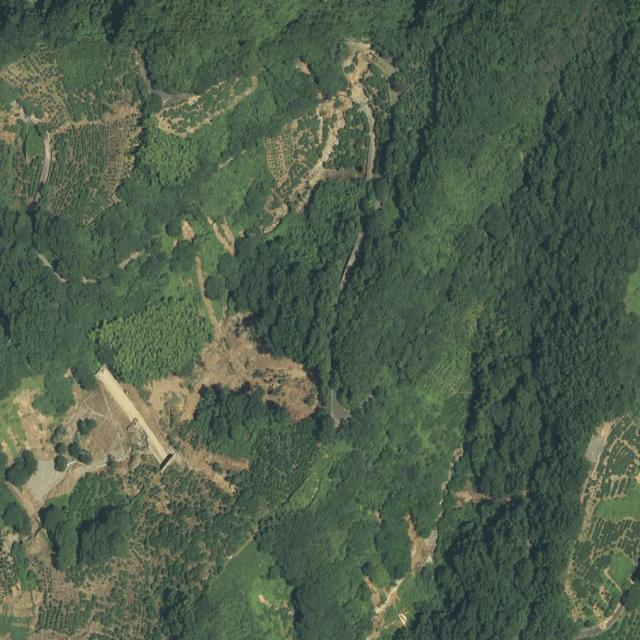landslide: (263, 39, 396, 233), (199, 314, 318, 421)
